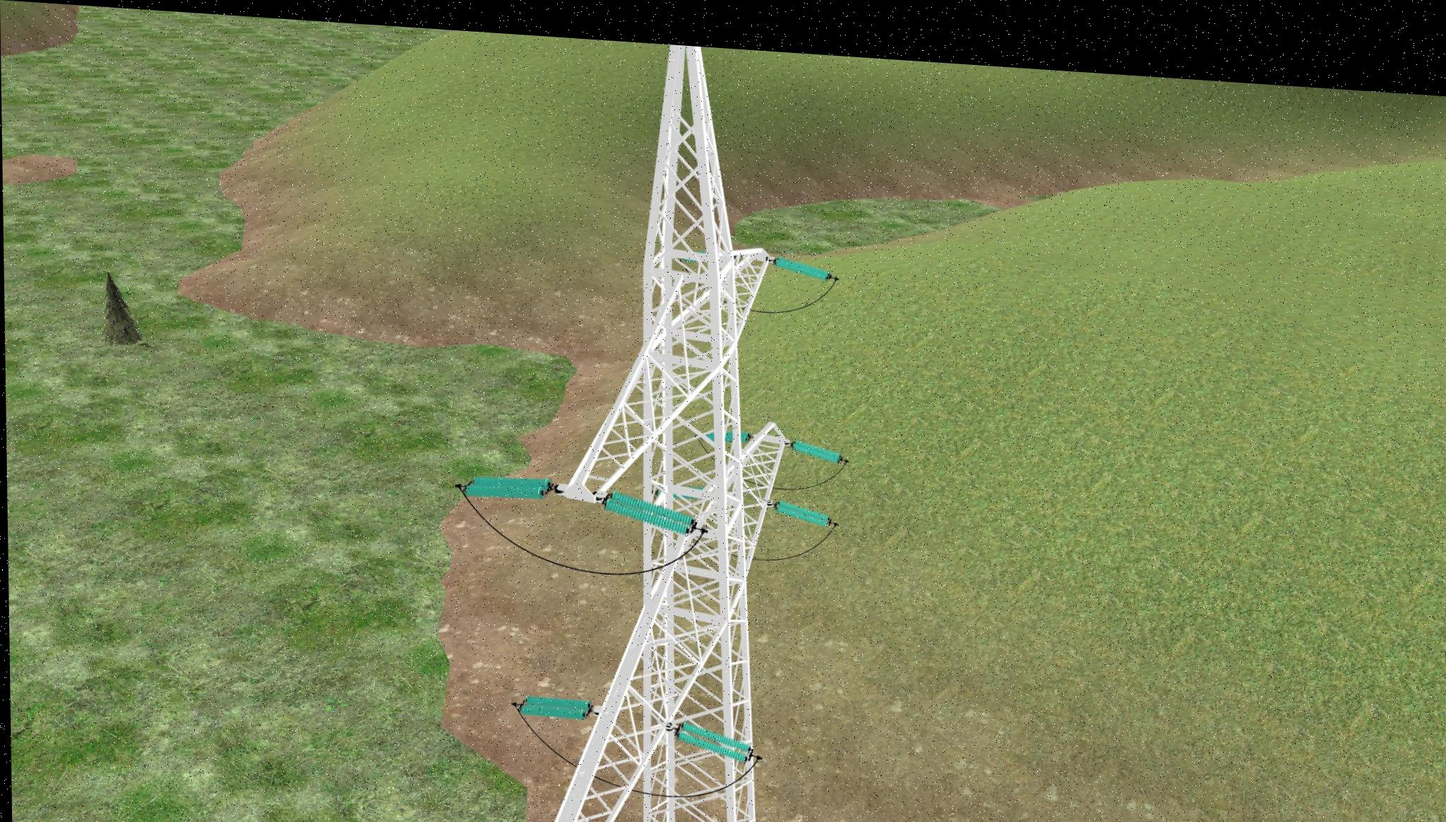tower: (521, 35, 799, 822)
